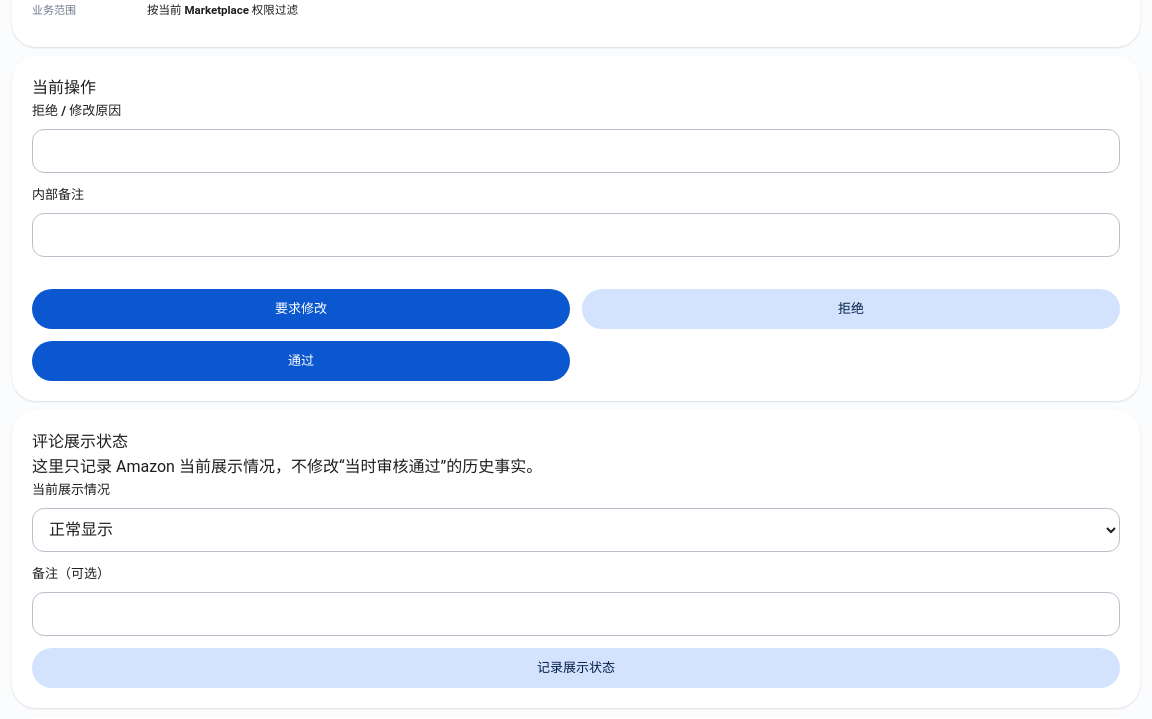
Test: review decision panel › keeps the review mutation error code and offers a safe fact refresh
(page scrolled)
Click the button "通过": (301, 361) x1=32 y1=341 x2=570 y2=381
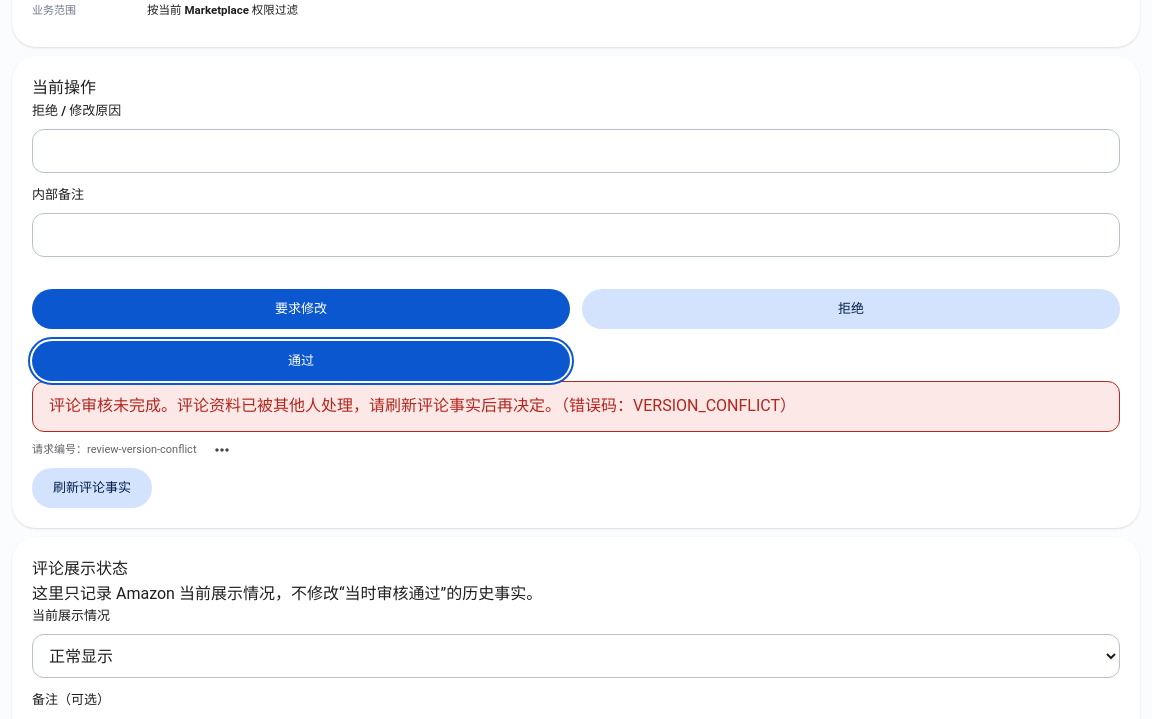
Expected: the text "评论审核未完成。评论资料已被其他人处理，请刷新评论事实后再决定。（错误码：VERSION_CONFLICT）" is shown, x1=49 y1=396 x2=796 y2=415
Expected: the text "请求编号：review-version-conflict" is shown, x1=32 y1=441 x2=196 y2=458
Expected: the button "刷新评论事实" is shown, x1=32 y1=468 x2=152 y2=508
